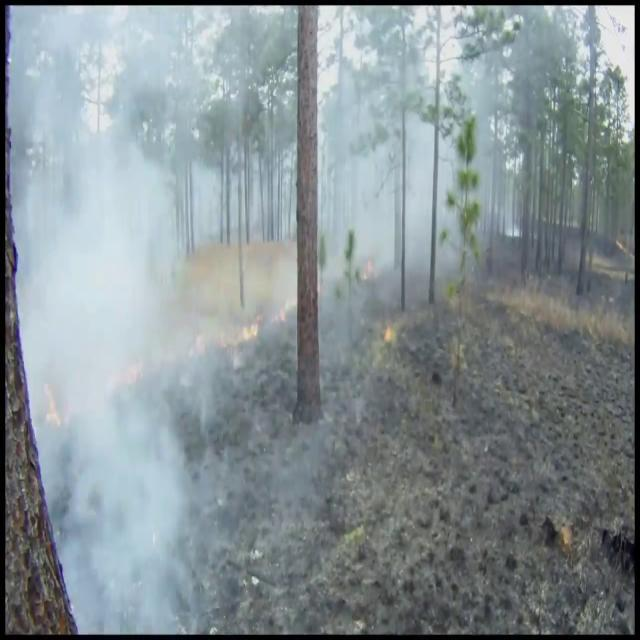Smoke: (6, 9, 254, 630)
